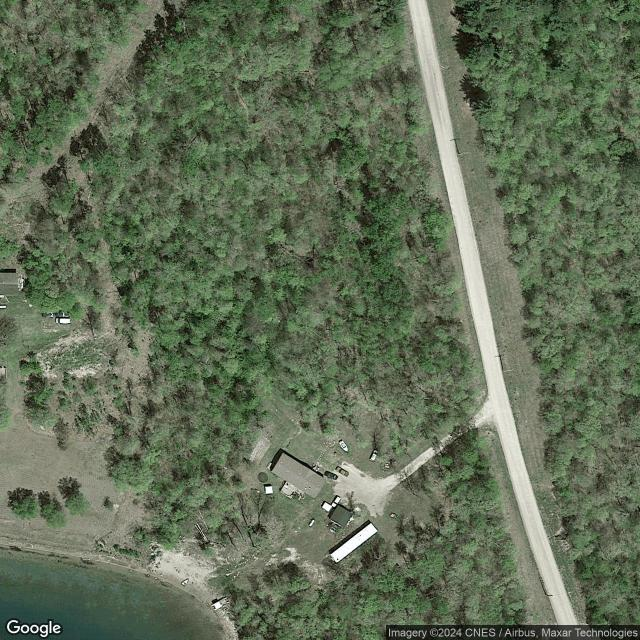Propane: (306, 517, 316, 528)
